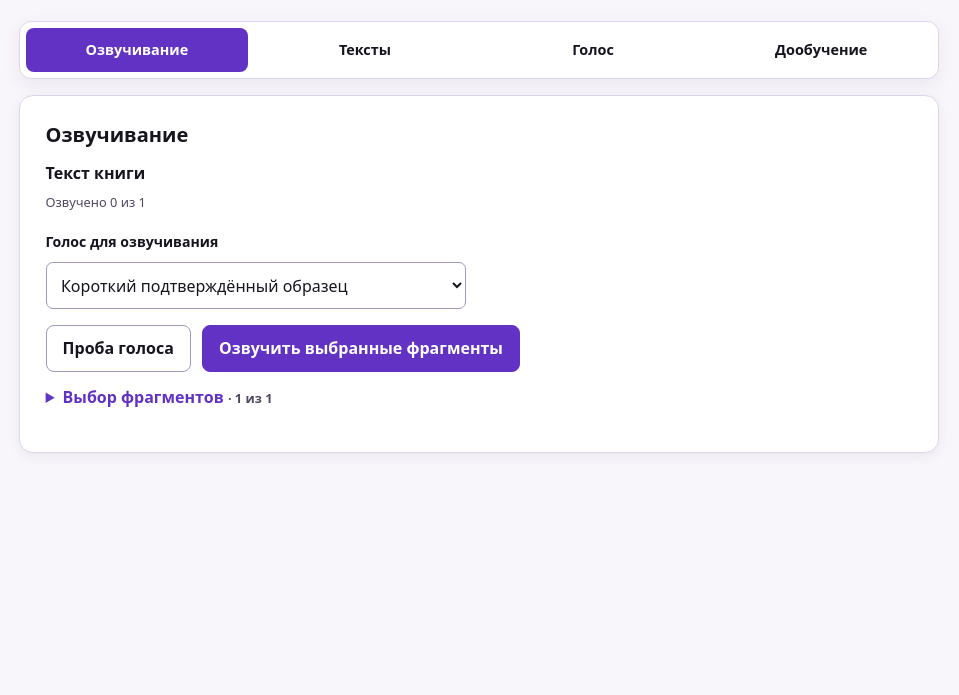
Russian corpus review › keeps polling a transcribing recording without rechecking engine files
Click the button "Дообучение". click: (821, 50)
box: [710, 28, 932, 72]
Wait 2000 ms
(page scrolled)
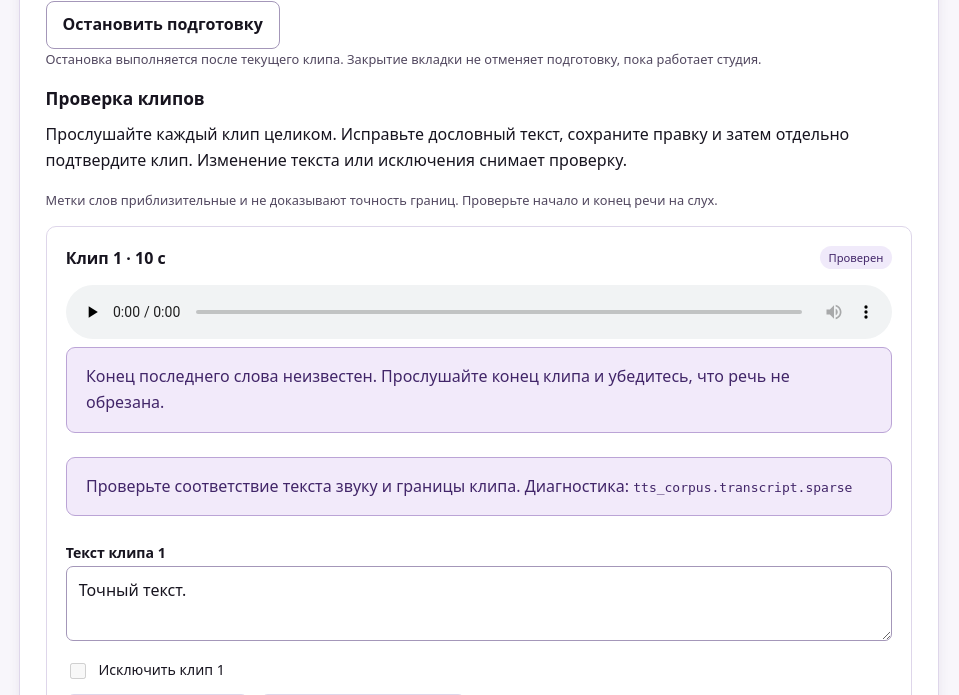
Expected: the text box labelled "Текст клипа 1" is shown, [66, 566, 892, 641]
